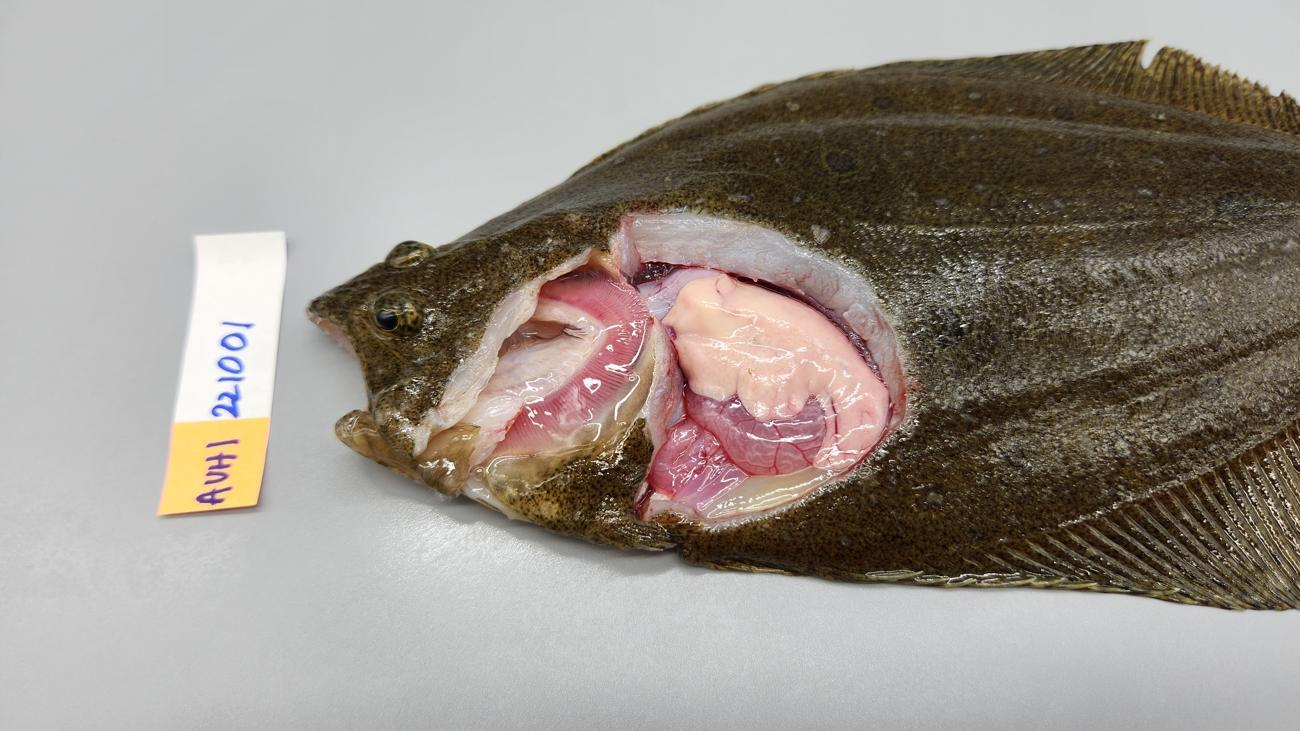VIGIP: (493, 272, 647, 451)
